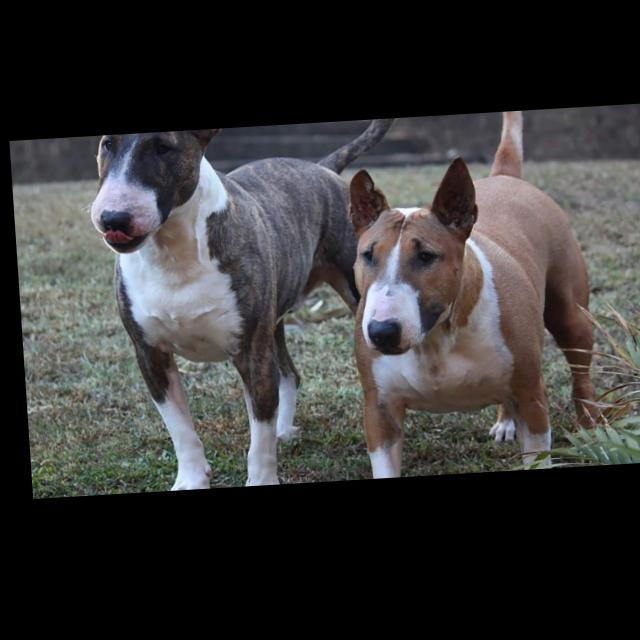bullterrier: (82, 124, 420, 497), (335, 115, 602, 485)
